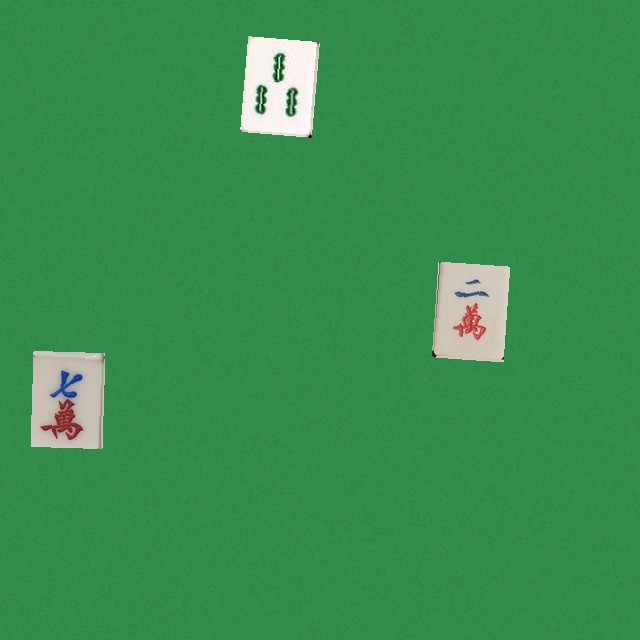tile: (240, 36, 312, 132), (431, 261, 503, 357), (30, 350, 102, 446)
